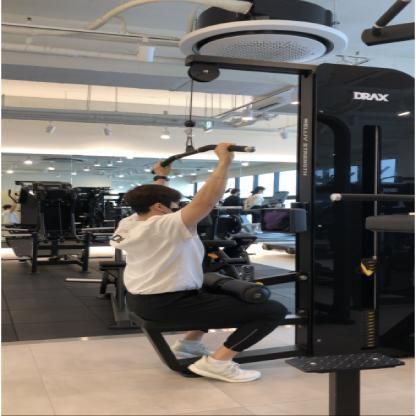Lat Pull Down: (100, 45, 416, 416)
